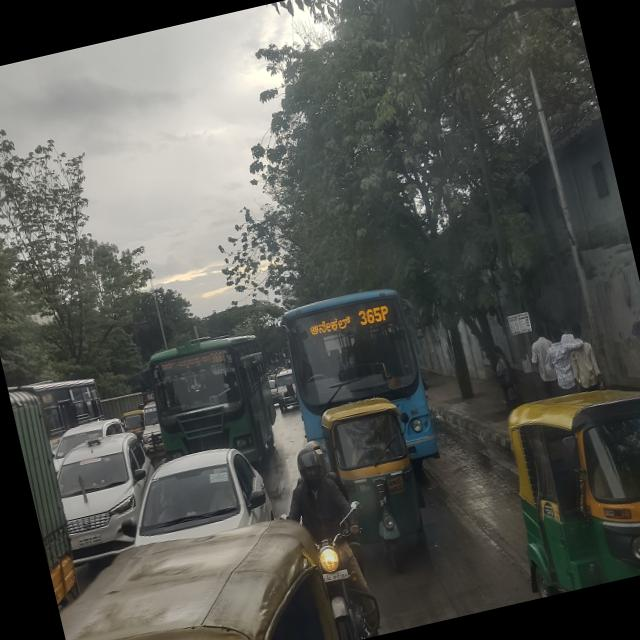bus: (277, 274, 446, 483), (132, 316, 296, 484)
display: (288, 288, 400, 352), (154, 339, 236, 384)
dnumber: (356, 298, 394, 330), (207, 346, 227, 368)
